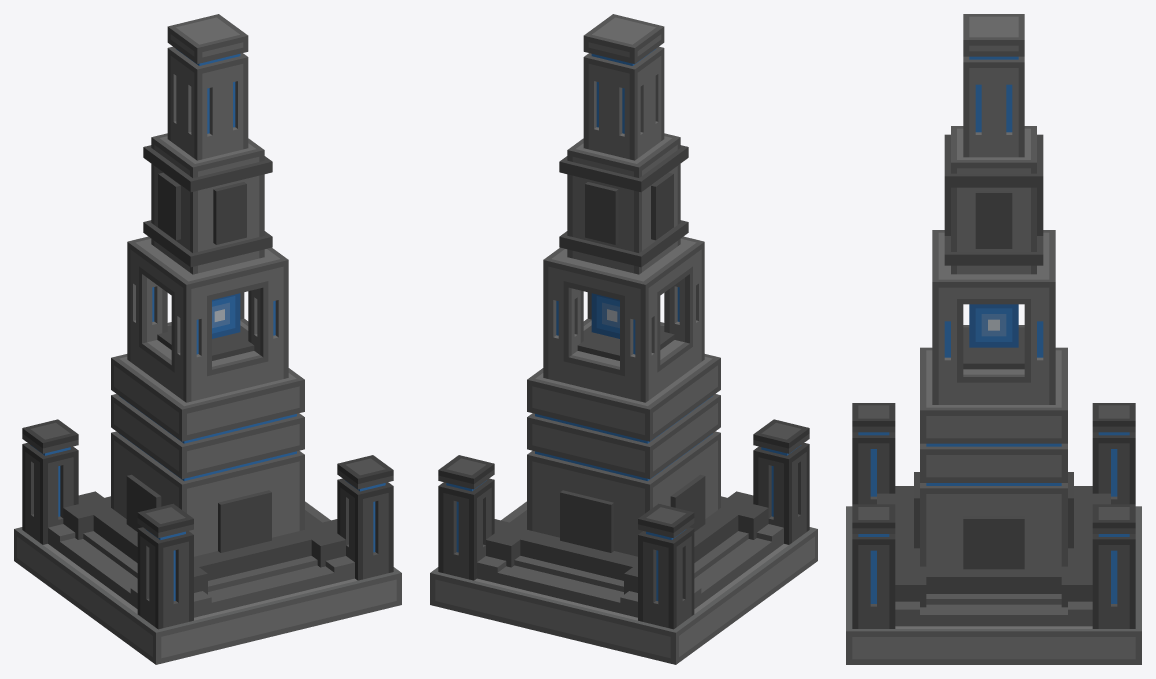
Rendered from Gem Altars.fbx.
3 renders of one model, left to right at view 1: azimuth 30°, elevation 25°; view 2: azimuth 150°, elevation 25°; view 3: azimuth 270°, elevation 25°, orthographic. The views are drawn at different scales.
Parts seen in each view (by area): view 1: Blue Gem Altar, Blue Gem; view 2: Blue Gem Altar, Blue Gem; view 3: Blue Gem Altar, Blue Gem.
Part boxes in pixels (x1=…): Blue Gem Altar: x1=14, y1=14, x2=401, y2=664; Blue Gem: x1=212, y1=293, x2=240, y2=338; Blue Gem Altar: x1=430, y1=14, x2=817, y2=664; Blue Gem: x1=591, y1=293, x2=619, y2=338; Blue Gem Altar: x1=846, y1=14, x2=1141, y2=664; Blue Gem: x1=969, y1=304, x2=1018, y2=347.
Size of the model in its own units: 0.96 by 0.96 by 2.06.
Materials: 8 (8 with a texture image).
